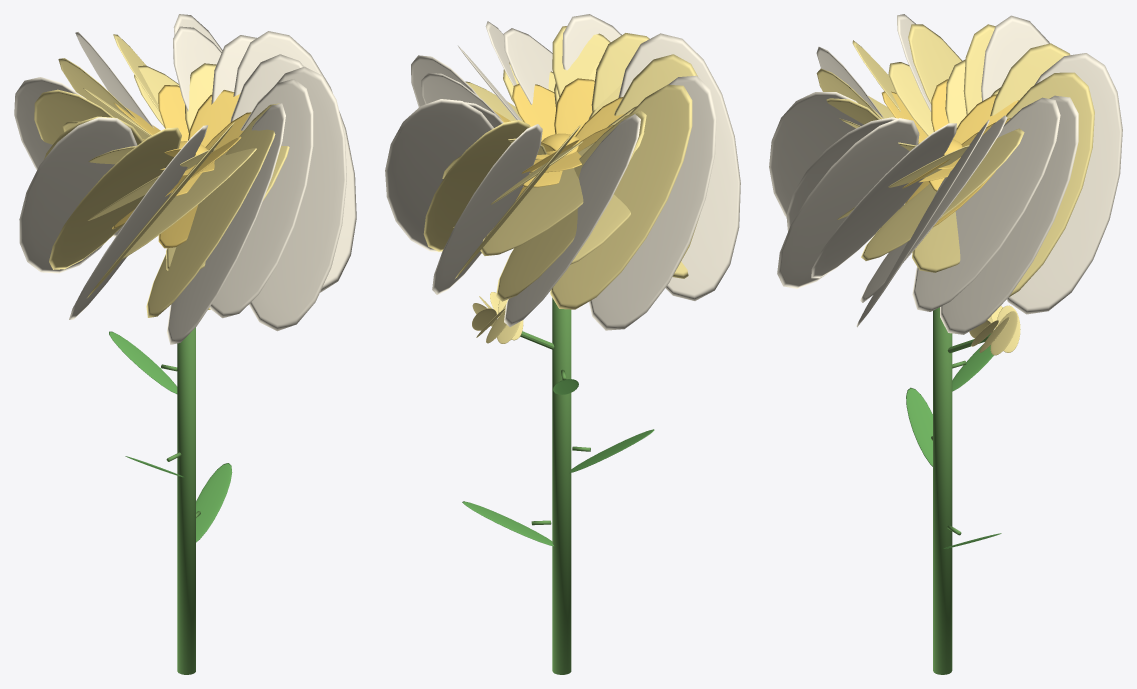
Rendered from flower.glb.
3 renders of one model, left to right at view 1: azimuth 30°, elevation 25°; view 2: azimuth 150°, elevation 25°; view 3: azimuth 270°, elevation 25°, orthographic.
Visible parts, largest first — view 1: Petal38, Petal29, Petal35, Petal28, Petal26, Stem, Petal37, Petal39, Petal36, Petal18, Petal24, Petal34 (+17 smaller); view 2: Petal25, Petal35, Petal36, Petal40, Stem, Petal33, Petal34, Petal22, Petal15, Petal24, Petal29, Petal27 (+14 smaller); view 3: Petal32, Petal33, Petal38, Petal40, Stem, Petal30, Petal37, Petal22, Petal21, Petal34, Petal31, Petal25 (+19 smaller).
Boxes of the visible parts, x1,y1,x2,y2 form: Petal38: (249,66,346,331); Petal29: (209,79,313,318); Petal35: (19,117,137,273); Petal28: (146,103,279,317); Petal26: (49,127,181,269); Stem: (177,327,195,674); Petal37: (166,103,285,344); Petal39: (233,31,356,292); Petal36: (69,125,208,319); Petal18: (115,148,256,261); Petal24: (34,89,113,144); Petal34: (14,77,122,236); Petal25: (550,84,692,309); Petal35: (589,75,716,330); Petal36: (618,33,740,300); Petal40: (385,99,493,252); Stem: (552,298,571,674); Petal33: (432,124,542,294); Petal34: (504,114,640,326); Petal22: (423,120,530,251); Petal15: (480,132,644,255); Petal24: (496,110,646,301); Petal29: (503,28,552,104); Petal27: (591,33,688,278); Petal32: (912,97,1060,311); Petal33: (1007,53,1122,314); Petal38: (777,118,919,288); Petal40: (940,95,1078,334); Stem: (933,307,952,674); Petal30: (811,123,956,278); Petal37: (769,92,863,217); Petal22: (1006,72,1094,296); Petal21: (861,128,1024,260); Petal34: (981,15,1049,101); Petal31: (860,115,1007,302); Petal25: (908,24,962,104).
Bounding box in the file's own units: 1.03 × 1.95 × 1.04.
